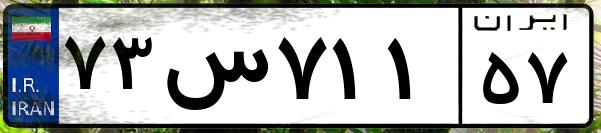1: (385, 28, 445, 110), (330, 28, 385, 110)
3: (110, 28, 158, 98)
5: (475, 38, 525, 113)
7: (270, 28, 330, 110), (57, 26, 110, 100), (525, 38, 570, 115)
س: (158, 20, 270, 120)
